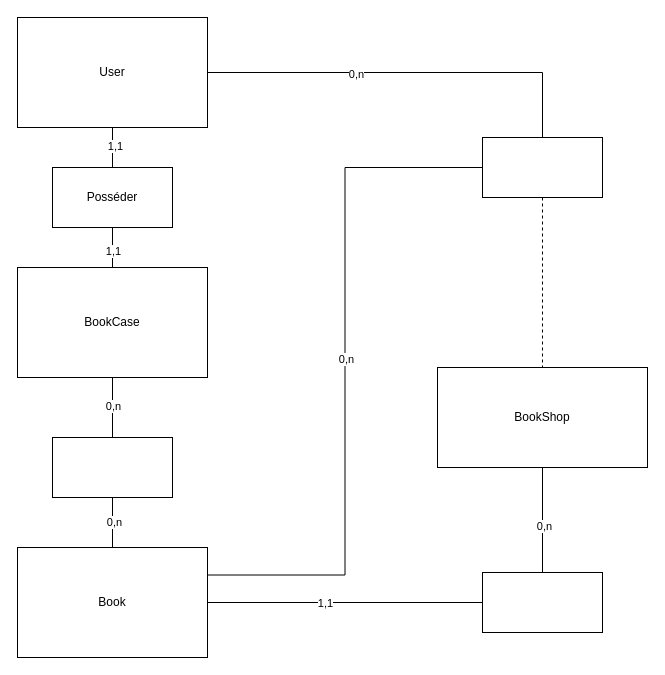
This 665x675 diagram has some shape labels left out. The shapes that lost their labels are listed below. From the top down, each one's centre as x and y in pixels, then its label:
(x=542, y=167): Acheter
(x=112, y=467): Appartenir
(x=542, y=602): Vendre
